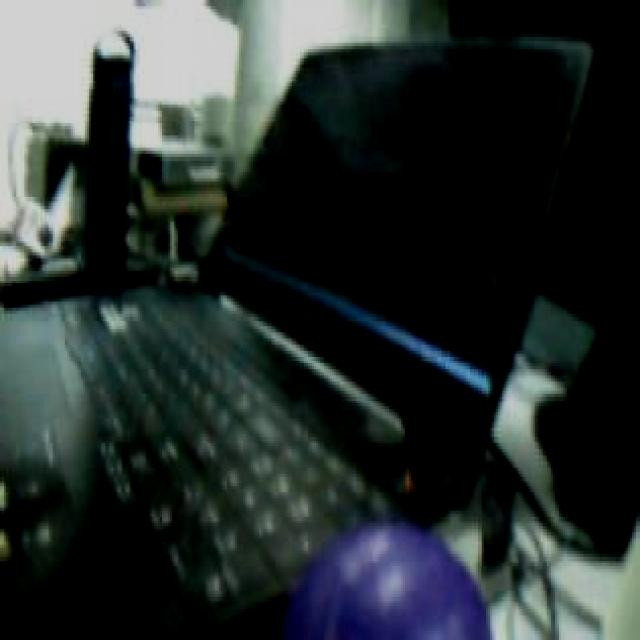BallPurple: (278, 520, 491, 640)
